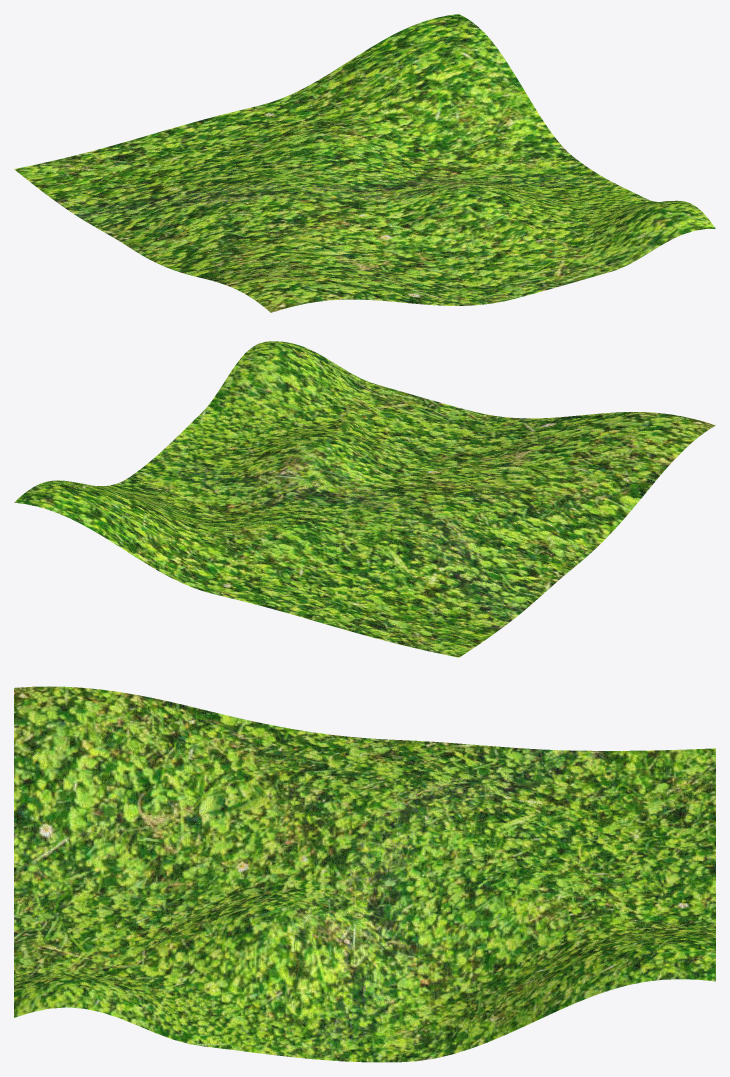
Rendered from FOI2.dae.
3 renders of one model, top to bottom at view 1: azimuth 30°, elevation 25°; view 2: azimuth 150°, elevation 25°; view 3: azimuth 270°, elevation 25°, orthographic. The views are drawn at different scales.
Visible parts, largest first — view 1: group_0; view 2: group_0; view 3: group_0.
Part boxes in pixels (x1,y1,x2,y2): group_0: (14,14,715,312); group_0: (14,341,715,657); group_0: (14,686,715,1062).
Bounding box in the file's own units: 30.48 × 30.48 × 4.12.
1 material, 1 textured.
